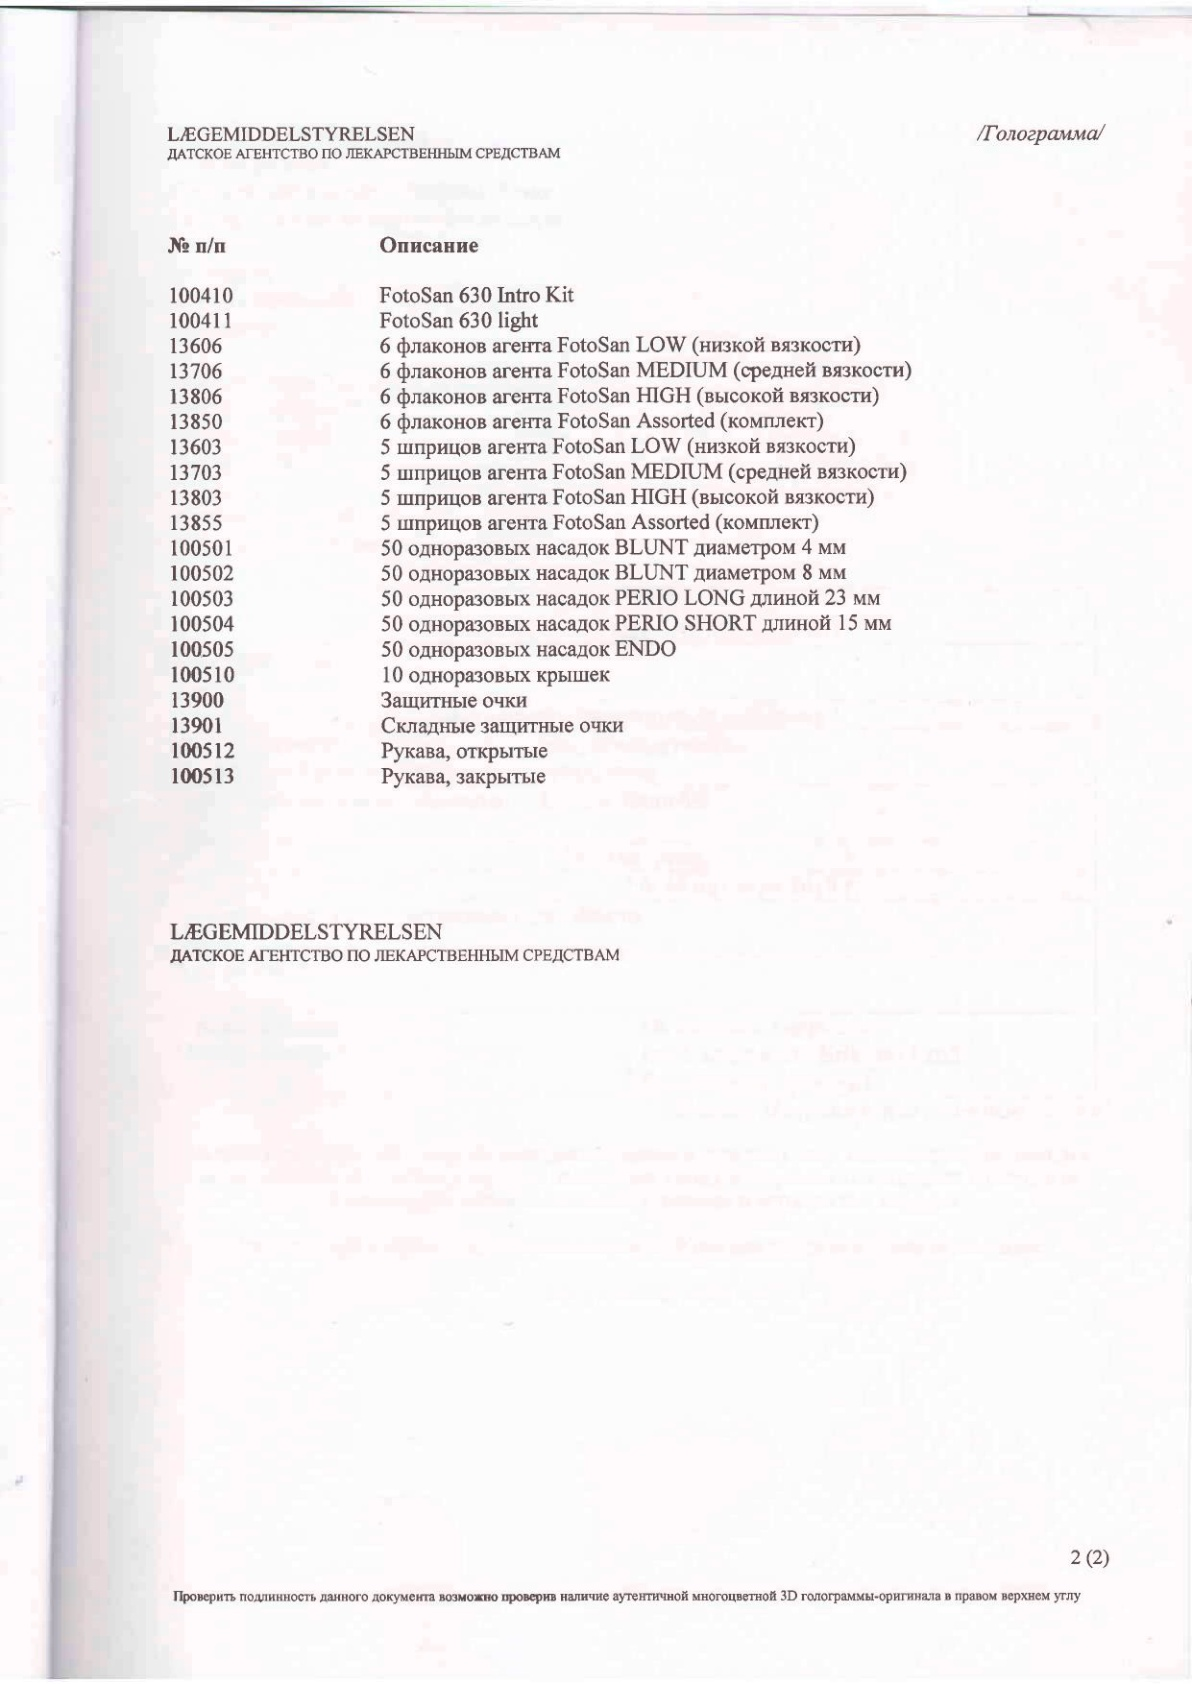nolines: (165, 230, 916, 792)
